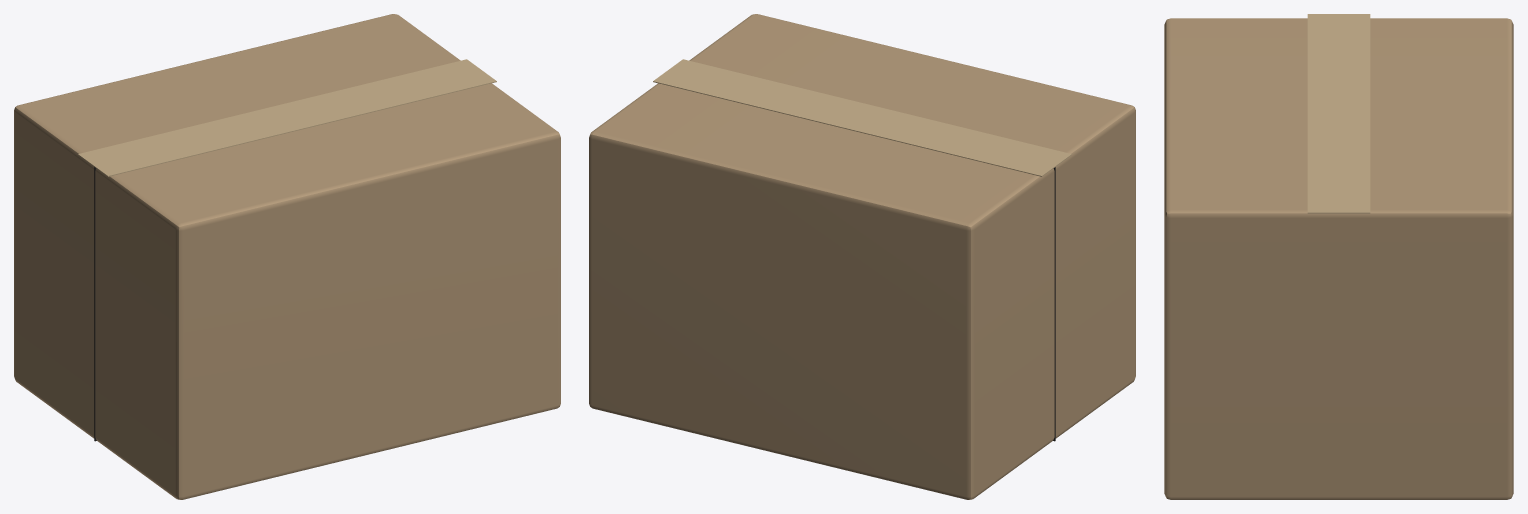
The model's file is load-on-the-shelf.glb.
3 renders of one model, left to right at view 1: azimuth 30°, elevation 25°; view 2: azimuth 150°, elevation 25°; view 3: azimuth 270°, elevation 25°, orthographic. The views are drawn at different scales.
Visible parts, largest first — view 1: load_on_the_shelf; view 2: load_on_the_shelf; view 3: load_on_the_shelf.
Boxes of the visible parts, x1,y1,x2,y2 form: load_on_the_shelf: (14,14,560,499); load_on_the_shelf: (589,14,1135,499); load_on_the_shelf: (1164,14,1513,499).
Bounding box in the file's own units: 29.09 × 19.86 × 21.6.
